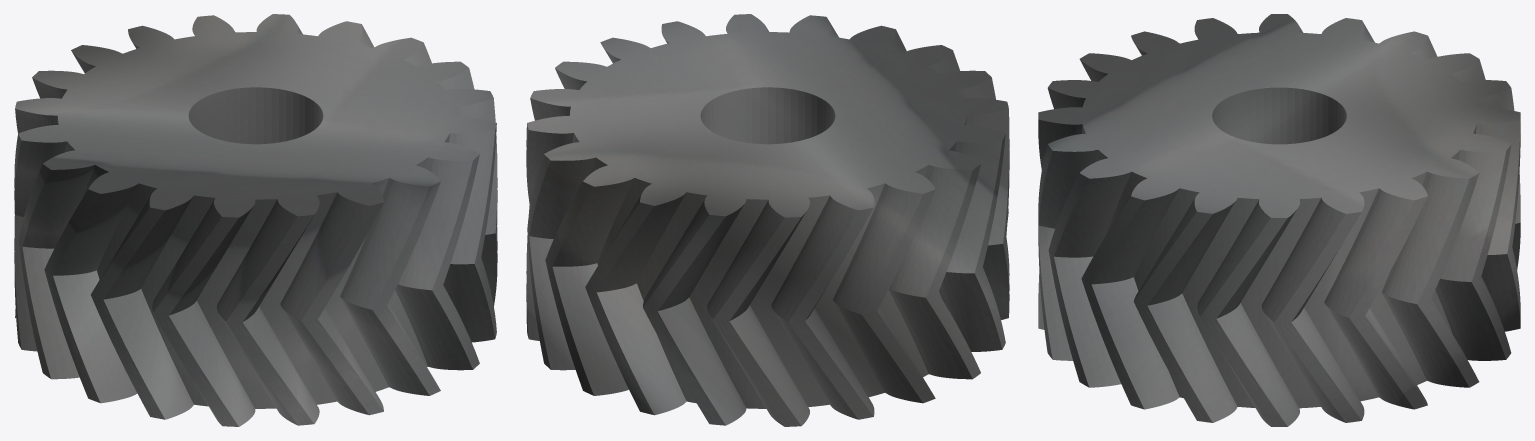
3 views of the same model, side by side, from view 1: azimuth 30°, elevation 25°; view 2: azimuth 150°, elevation 25°; view 3: azimuth 270°, elevation 25° (orthographic).
Visible parts, largest first — view 1: left_gear; view 2: left_gear; view 3: left_gear.
Boxes of the visible parts, x1,y1,x2,y2 form: left_gear: (14,14,497,426); left_gear: (526,14,1009,426); left_gear: (1038,14,1520,426).
Bounding box in the file's own units: 0.0251 × 0.0251 × 0.012.
1 material, 1 textured.
